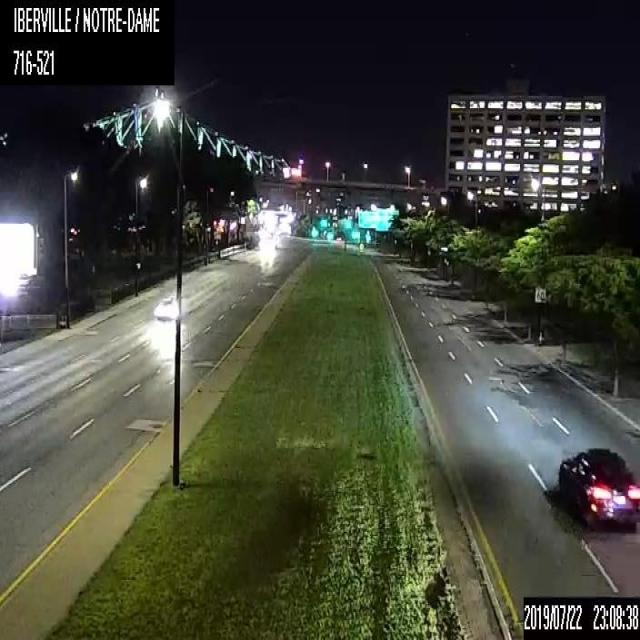vehicle: (556, 442, 639, 530), (151, 294, 186, 320)
